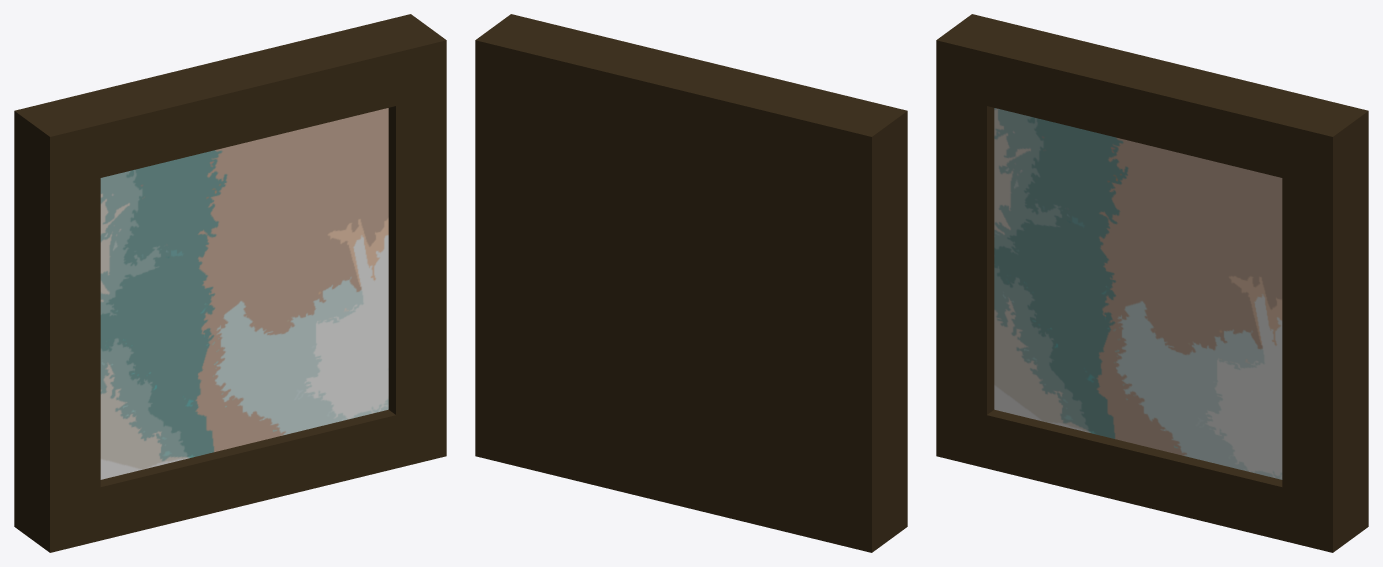
Rendered from painting-small.glb.
The picture shows the model from 3 angles, left to right: view 1: azimuth 30°, elevation 25°; view 2: azimuth 150°, elevation 25°; view 3: azimuth 330°, elevation 25°; orthographic projection.
Visible parts, largest first — view 1: Painting_Small; view 2: Painting_Small; view 3: Painting_Small.
Boxes of the visible parts, x1=… form: Painting_Small: x1=14, y1=14, x2=446, y2=552; Painting_Small: x1=475, y1=14, x2=907, y2=552; Painting_Small: x1=936, y1=14, x2=1368, y2=552.
Bounding box in the file's own units: 0.2517 × 0.2523 × 0.0394.
2 materials, 2 textured.
